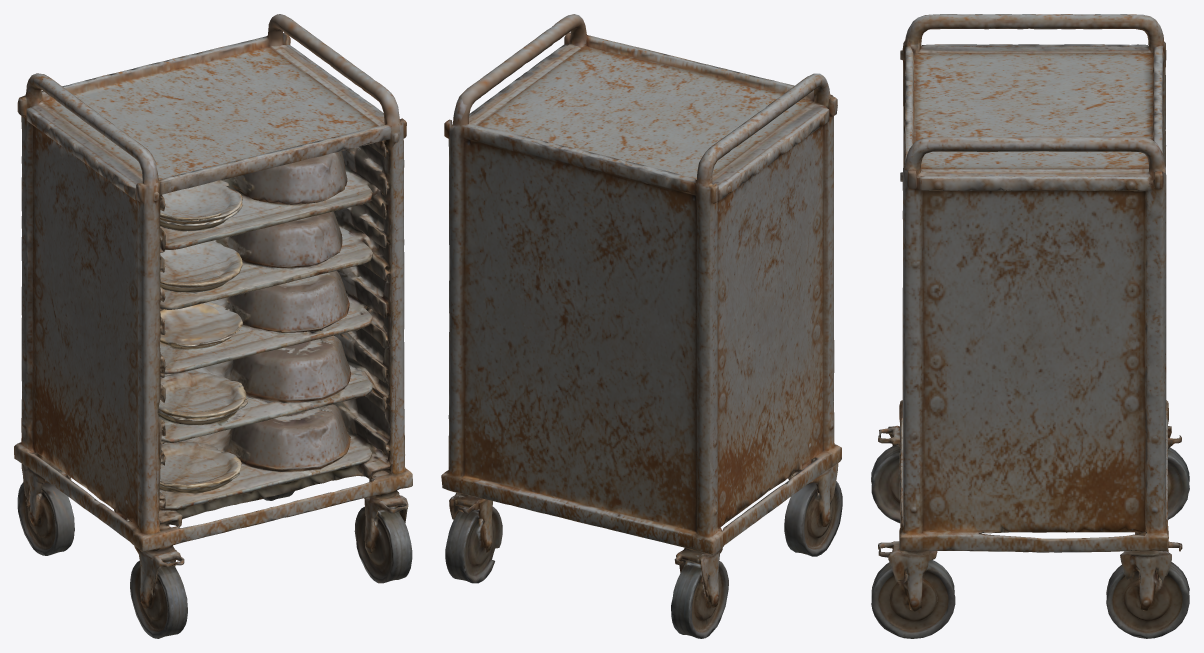
File: FoodTrolley.fbx
3 renders of one model, left to right at view 1: azimuth 30°, elevation 25°; view 2: azimuth 150°, elevation 25°; view 3: azimuth 270°, elevation 25°, orthographic. The views are drawn at different scales.
Parts seen in each view (by area): view 1: texture_mapping; view 2: texture_mapping; view 3: texture_mapping.
Boxes of the visible parts, x1=… form: texture_mapping: x1=14, y1=14, x2=412, y2=638; texture_mapping: x1=441, y1=14, x2=842, y2=638; texture_mapping: x1=871, y1=14, x2=1189, y2=638.
Bounding box in the file's own units: 0.589 × 0.5759 × 1.
1 material, 1 textured.
